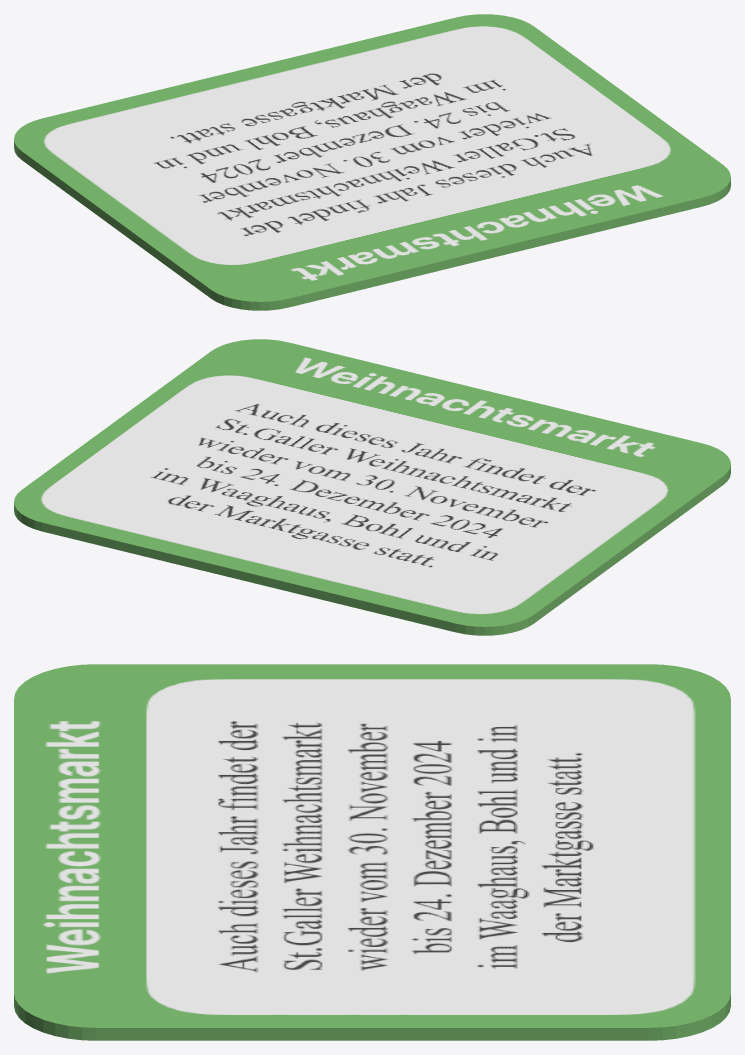
The model's file is Weihnachtsmarkt.fbx.
The picture shows the model from 3 angles, top to bottom: view 1: azimuth 30°, elevation 25°; view 2: azimuth 150°, elevation 25°; view 3: azimuth 270°, elevation 25°; orthographic projection. The views are drawn at different scales.
Visible parts, largest first — view 1: Cube; view 2: Cube; view 3: Cube.
Boxes of the visible parts, x1=… form: Cube: x1=14, y1=14, x2=730, y2=310; Cube: x1=14, y1=339, x2=730, y2=635; Cube: x1=14, y1=664, x2=730, y2=1040.
Size of the model in its own units: 263 by 4.36 by 219.
Materials: 1 (1 with a texture image).
